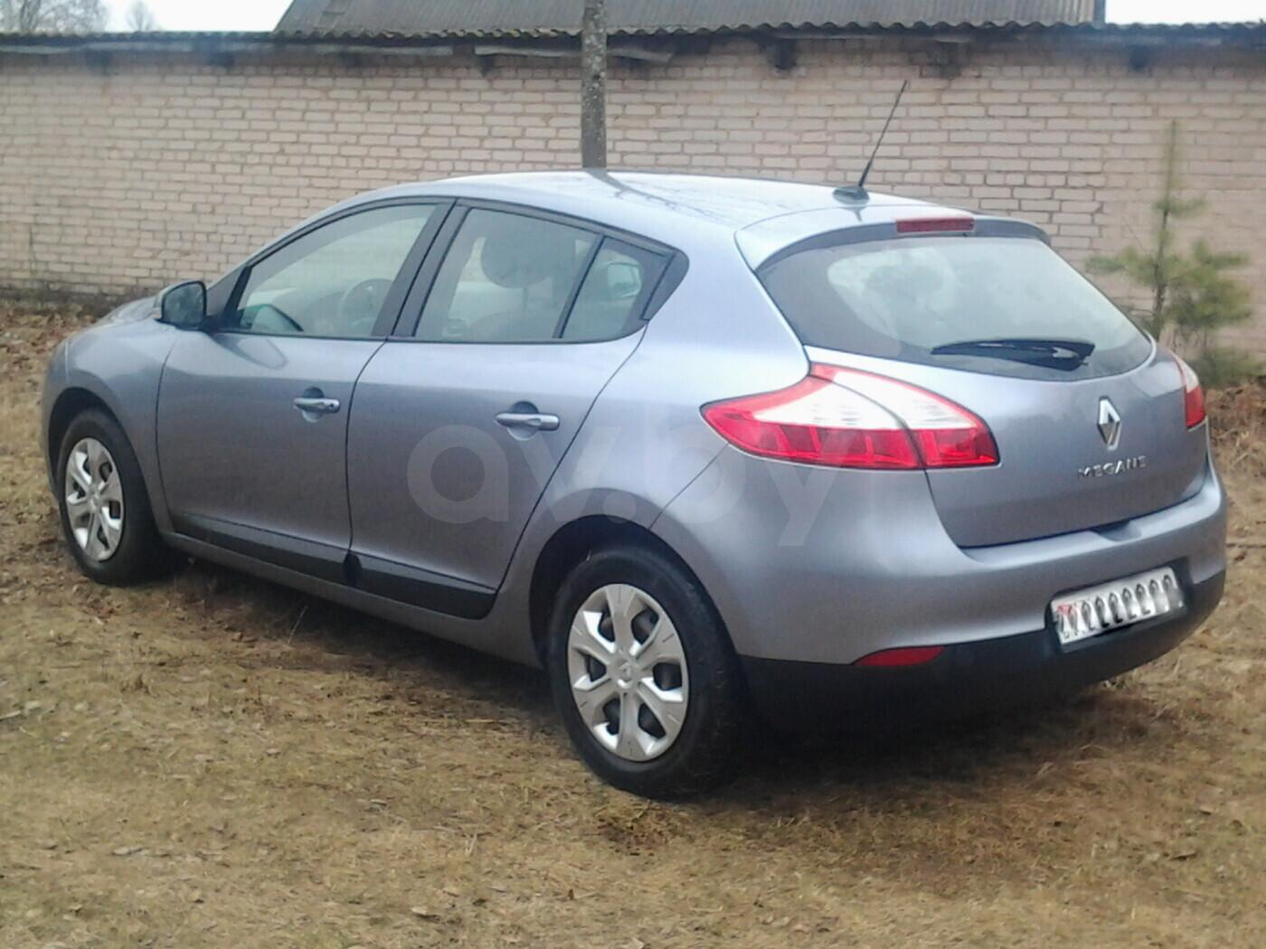Megane_2008-2014: (39, 165, 1222, 797)
